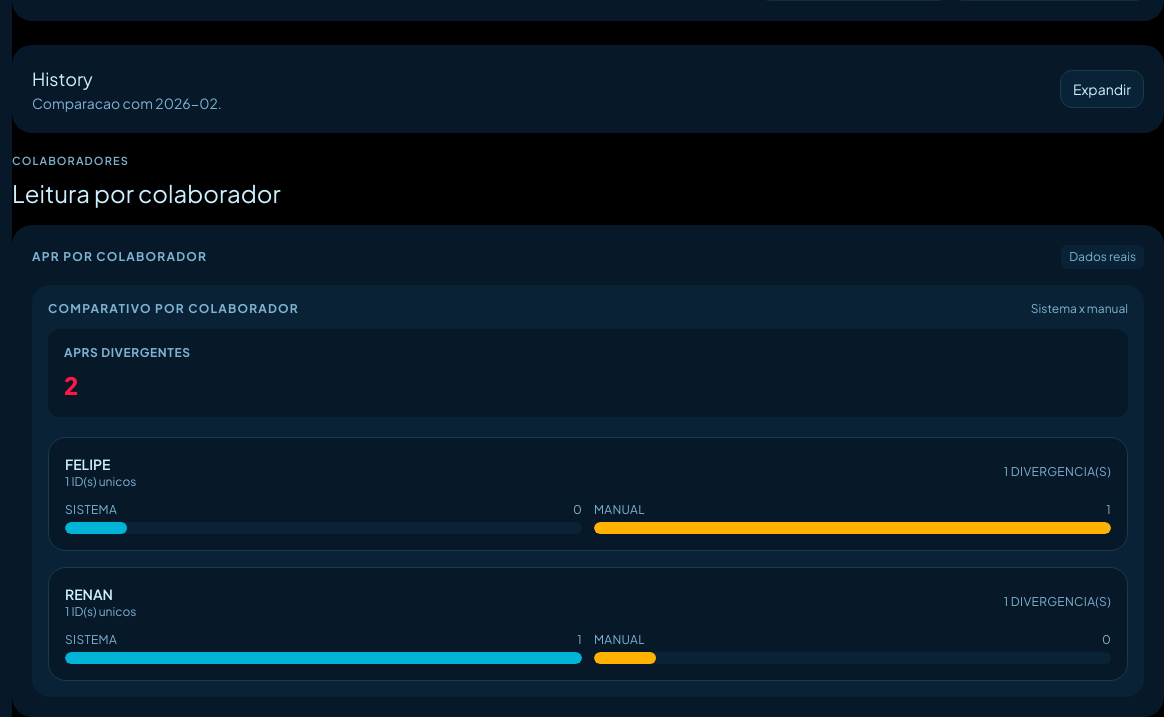
Scenario: AprPage › monta o grafico da matrix com colaboradores vindos de divergencias
(page scrolled)
Check: the text "APR por colaborador" is shown, box [32,249,207,264]
What coordinates should you click on to do the following:
click the button "RENAN 1 ID(s) unicos 1 divergencia(s) Sistema 1 Manual 0"
I would click on:
 (89, 594)
Its box is [48,567,1128,681].
(page scrolled)
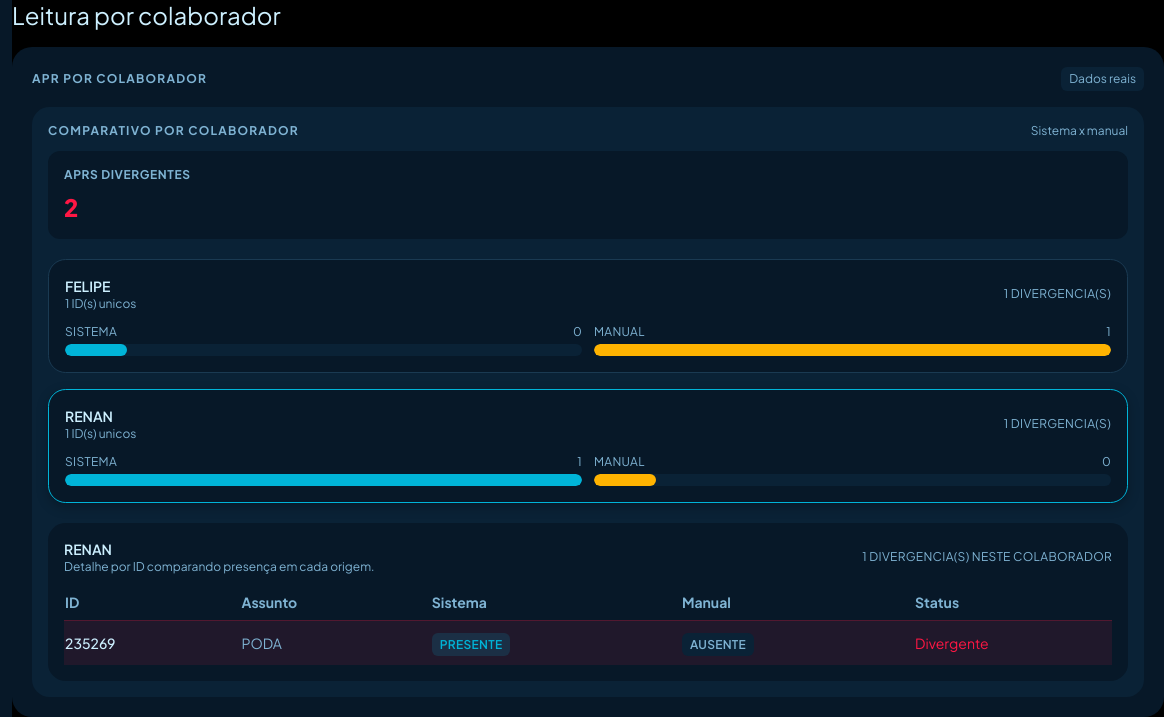
Check: the text "Divergente" is shown, box [915,634,989,652]
Check: the text "Detalhe por ID comparando presença em cada origem." is shown, box [64,559,374,575]
Check: the text "Presente" is shown, box [432,633,510,656]
